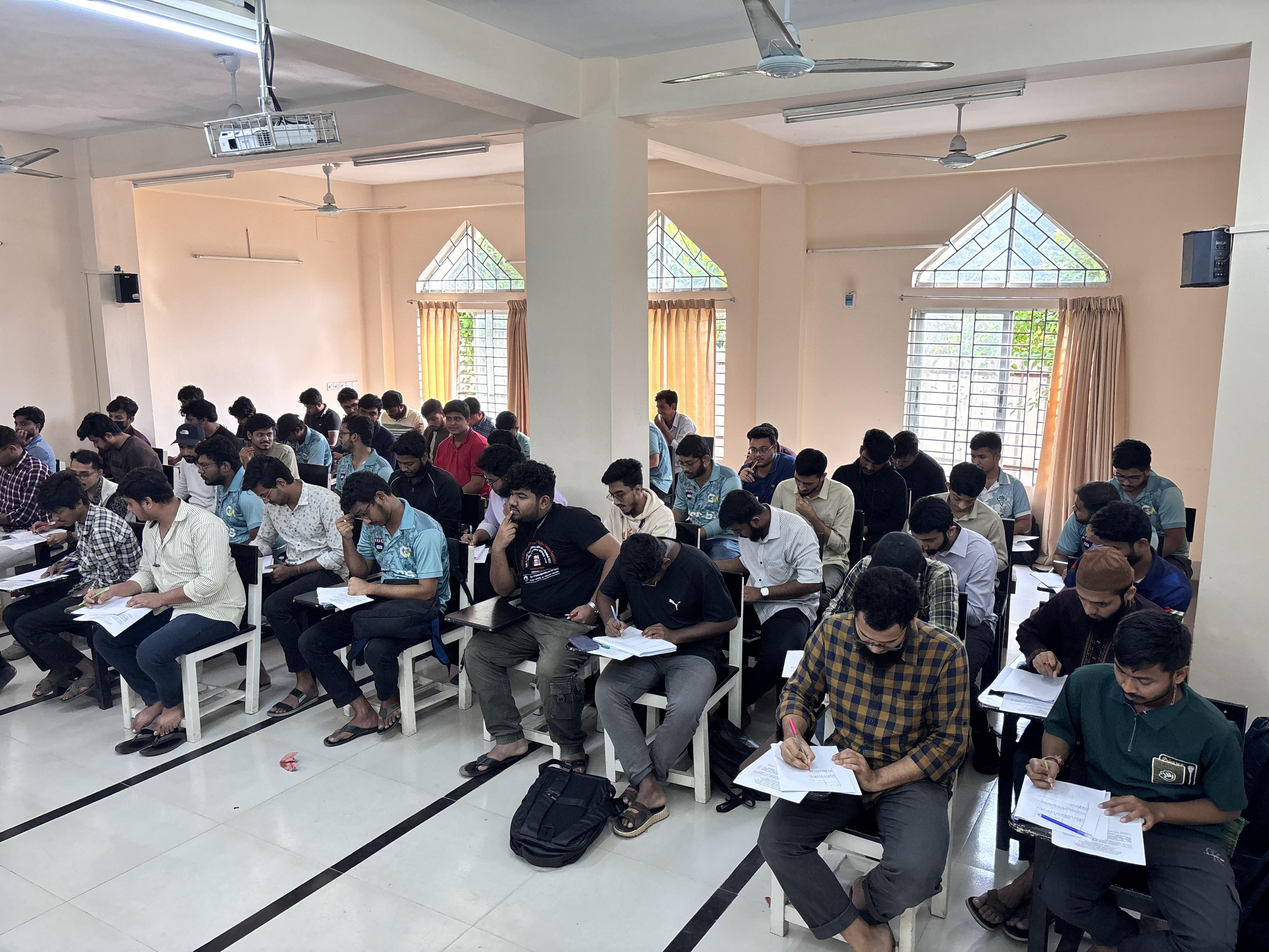copying: (467, 447, 522, 520), (167, 424, 209, 475)
no_cheating: (1017, 609, 1236, 915), (789, 567, 958, 835), (324, 469, 425, 671), (581, 537, 709, 679), (489, 463, 582, 627), (230, 455, 330, 583), (28, 469, 115, 610), (1034, 547, 1143, 654), (715, 489, 785, 563), (900, 497, 969, 572), (600, 455, 661, 531), (667, 431, 719, 520), (196, 434, 242, 519), (1105, 434, 1157, 496), (76, 412, 136, 464), (780, 449, 831, 508), (851, 427, 895, 492), (945, 461, 987, 524), (389, 431, 432, 491), (740, 425, 779, 488), (335, 416, 372, 473), (441, 399, 474, 462), (891, 423, 925, 472), (67, 449, 103, 494), (11, 404, 49, 445), (969, 431, 1004, 475), (178, 399, 223, 433), (276, 414, 314, 454), (105, 393, 142, 432), (297, 387, 331, 426), (418, 397, 448, 439), (381, 388, 410, 426), (225, 395, 255, 430), (356, 393, 382, 428), (336, 385, 361, 420)
side_talking: (103, 468, 216, 644), (1068, 481, 1116, 535), (242, 410, 285, 456), (654, 390, 678, 430)
